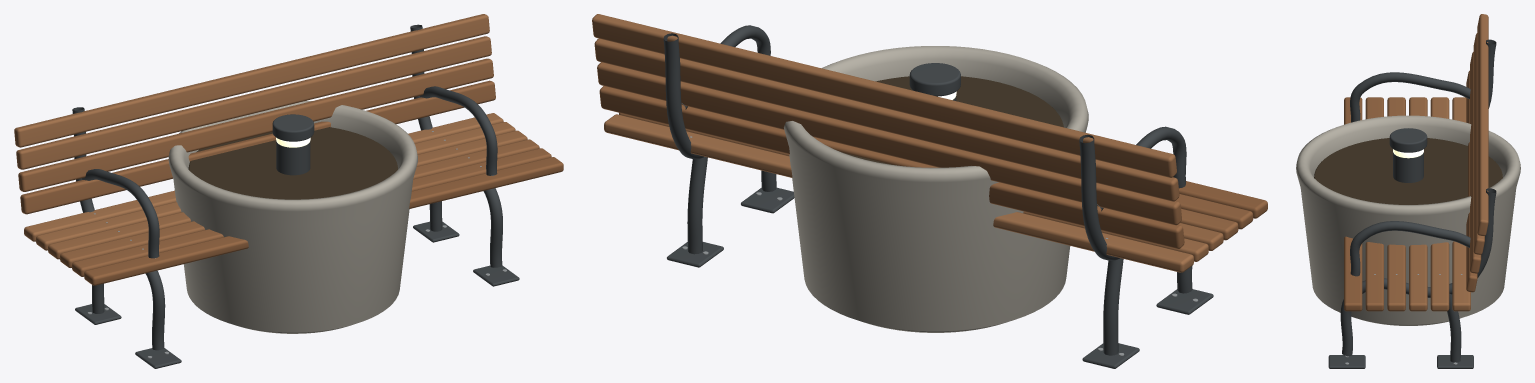
File: campus-street-furniture.glb
3 views of the same model, side by side, from view 1: azimuth 30°, elevation 25°; view 2: azimuth 150°, elevation 25°; view 3: azimuth 270°, elevation 25° (orthographic). The views are drawn at different scales.
Parts seen in each view (by area): view 1: Planter — Warm sand precast concrete, Bench — Oiled ash slat 3, Bench — Oiled ash slat 4, Bench — Oiled ash slat 2, Planter — Fine dark planting soil, Bench — Oiled ash slat 1, Bench — Powder coated warm graphite, Bench — Oiled ash slat 0, Bench — Oiled ash slat 5, Bollard — Powder coated warm graphite; view 2: Planter — Warm sand precast concrete, Bench — Oiled ash slat 4, Bench — Oiled ash slat 3, Bench — Oiled ash slat 2, Bench — Powder coated warm graphite, Bench — Oiled ash slat 1, Bench — Oiled ash slat 5, Planter — Fine dark planting soil, Bollard — Powder coated warm graphite, Bench — Oiled ash slat 0; view 3: Planter — Warm sand precast concrete, Planter — Fine dark planting soil, Bench — Powder coated warm graphite, Bench — Oiled ash slat 4, Bench — Oiled ash slat 3, Bench — Oiled ash slat 2, Bench — Oiled ash slat 1, Bollard — Powder coated warm graphite, Bench — Oiled ash slat 5, Bench — Oiled ash slat 0.
Part boxes in pixels (box(x1,y1,x2,y2)): Planter — Warm sand precast concrete: box(168, 100, 417, 333); Bench — Oiled ash slat 3: box(16, 36, 527, 259); Bench — Oiled ash slat 4: box(14, 14, 515, 250); Bench — Oiled ash slat 2: box(18, 58, 539, 267); Planter — Fine dark planting soil: box(188, 127, 397, 199); Bench — Oiled ash slat 1: box(20, 80, 551, 276); Bench — Powder coated warm graphite: box(72, 24, 519, 368); Bench — Oiled ash slat 0: box(84, 157, 563, 285); Bench — Oiled ash slat 5: box(24, 113, 503, 241); Bollard — Powder coated warm graphite: box(272, 114, 314, 175); Planter — Warm sand precast concrete: box(784, 46, 1088, 332); Bench — Oiled ash slat 4: box(592, 14, 1208, 261); Bench — Oiled ash slat 3: box(594, 38, 1223, 250); Bench — Oiled ash slat 2: box(597, 62, 1238, 240); Bench — Powder coated warm graphite: box(663, 25, 1213, 368); Bench — Oiled ash slat 1: box(599, 86, 1253, 248); Bench — Oiled ash slat 5: box(604, 114, 1193, 272); Planter — Fine dark planting soil: box(841, 76, 1063, 165); Bollard — Powder coated warm graphite: box(909, 63, 960, 100); Bench — Oiled ash slat 0: box(1179, 181, 1267, 218); Planter — Warm sand precast concrete: box(1296, 115, 1520, 325); Planter — Fine dark planting soil: box(1314, 138, 1502, 204); Bench — Powder coated warm graphite: box(1328, 39, 1496, 368); Bench — Oiled ash slat 4: box(1430, 14, 1488, 311); Bench — Oiled ash slat 3: box(1409, 33, 1484, 311); Bench — Oiled ash slat 2: box(1387, 52, 1481, 311); Bench — Oiled ash slat 1: box(1365, 70, 1477, 311); Bollard — Powder coated warm graphite: box(1389, 128, 1427, 182); Bench — Oiled ash slat 5: box(1452, 97, 1470, 311); Bench — Oiled ash slat 0: box(1344, 97, 1362, 311).
Bounding box in the file's own units: 2.4 × 0.9448 × 1.1.
